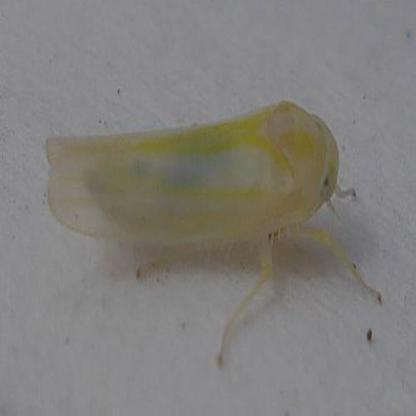green-leafhopper: (46, 106, 334, 270)
